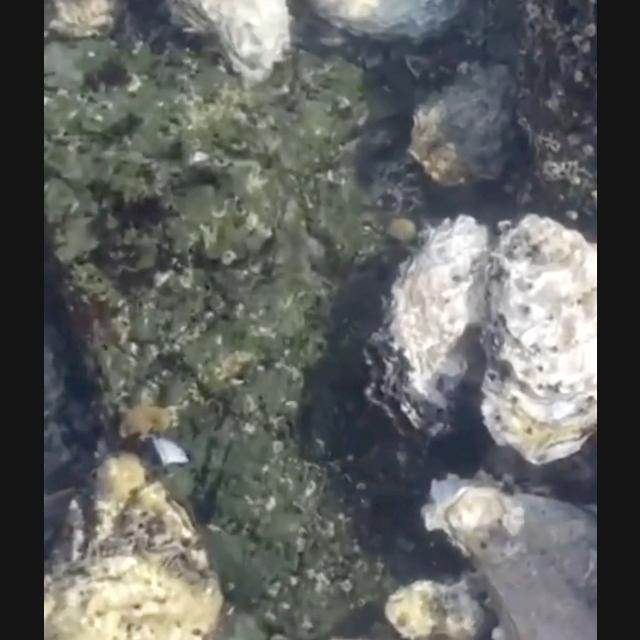Oyster-Closed: (44, 450, 226, 640), (478, 211, 596, 465), (419, 478, 596, 640), (405, 66, 517, 192), (160, 0, 292, 91), (305, 0, 463, 46), (380, 584, 486, 640)
Oyster-Open: (362, 213, 492, 447)
